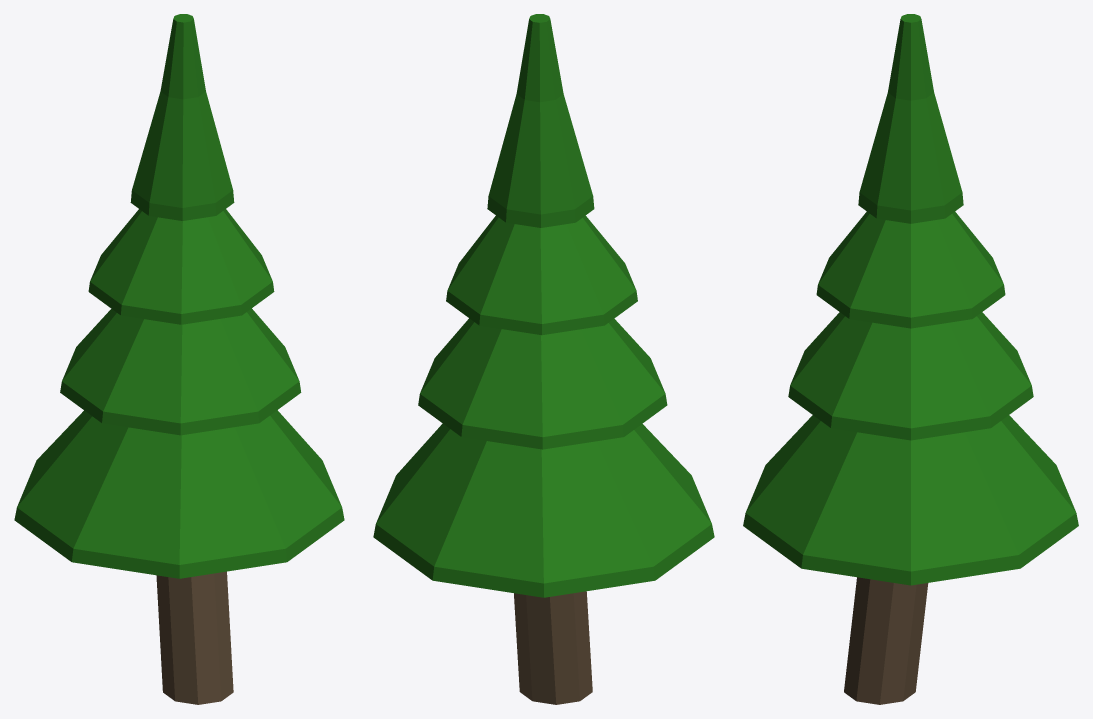
The model's file is fir.fbx.
3 renders of one model, left to right at view 1: azimuth 30°, elevation 25°; view 2: azimuth 150°, elevation 25°; view 3: azimuth 270°, elevation 25°, orthographic. The views are drawn at different scales.
Parts seen in each view (by area): view 1: pCylinder1; view 2: pCylinder1; view 3: pCylinder1.
Boxes of the visible parts, x1,y1,x2,y2 form: pCylinder1: [14, 14, 344, 704]; pCylinder1: [373, 14, 714, 704]; pCylinder1: [743, 14, 1078, 704].
Size of the model in its own units: 19.72 by 44.17 by 20.02.
